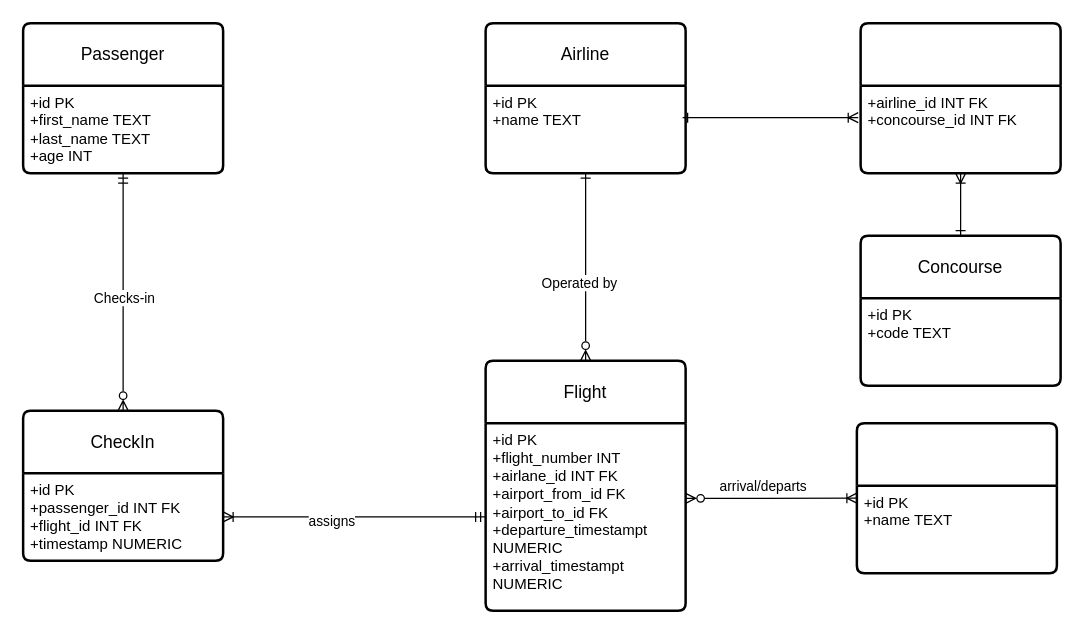
Some shapes in this 1083 by 643 pixel diagram are drawn without their labels. Each missing label, with the box of its shape:
Airline_Concourse: (859, 21, 1061, 174)
Airport: (855, 421, 1058, 574)
